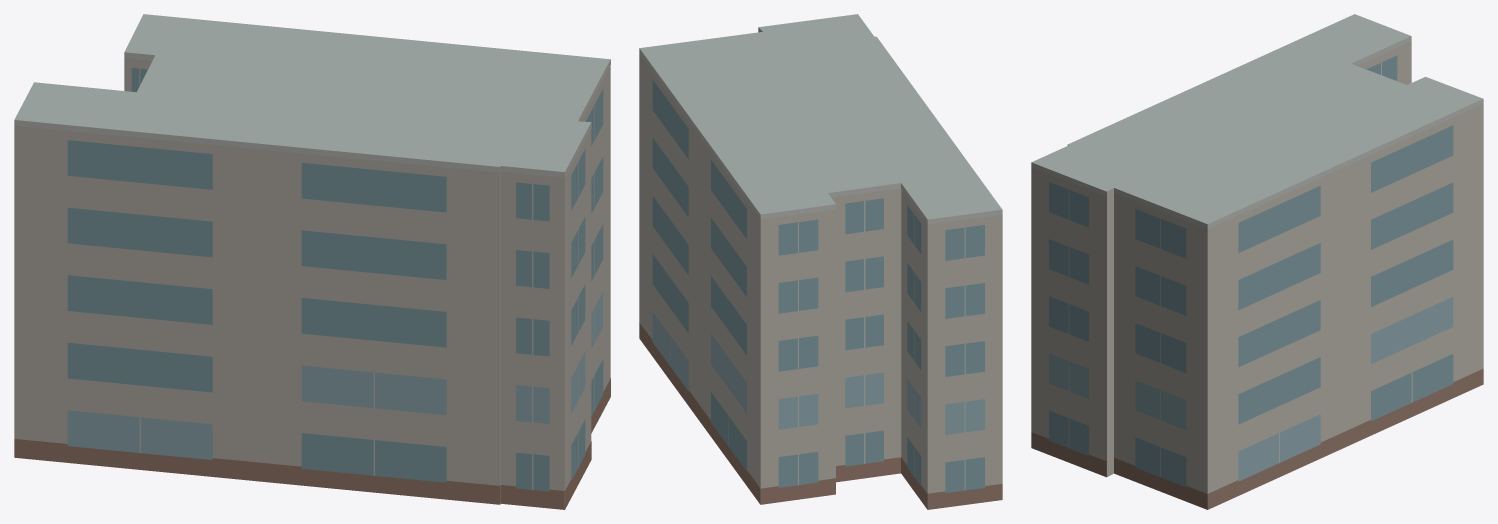
Rendered from survey-upis-32719967.glb.
3 renders of one model, left to right at view 1: azimuth 30°, elevation 25°; view 2: azimuth 150°, elevation 25°; view 3: azimuth 270°, elevation 25°, orthographic. The views are drawn at different scales.
Visible parts, largest first — view 1: survey-upis-32719967.tmp; view 2: survey-upis-32719967.tmp; view 3: survey-upis-32719967.tmp.
Boxes of the visible parts, x1,y1,x2,y2 form: survey-upis-32719967.tmp: (14, 14, 610, 509); survey-upis-32719967.tmp: (639, 14, 1002, 509); survey-upis-32719967.tmp: (1031, 14, 1483, 509).
Size of the model in its own units: 22.42 by 14.2 by 20.38.
